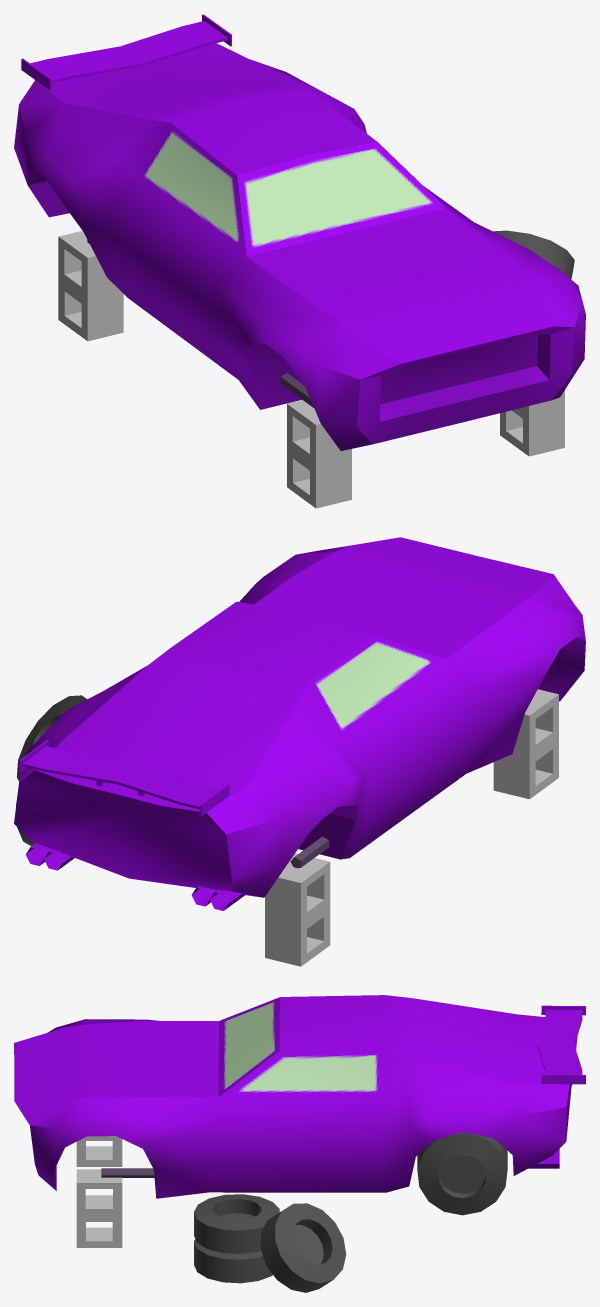
The model's file is env_carBlocks.fbx.
The picture shows the model from 3 angles, top to bottom: view 1: azimuth 30°, elevation 25°; view 2: azimuth 150°, elevation 25°; view 3: azimuth 270°, elevation 25°; orthographic projection. The views are drawn at different scales.
Visible parts, largest first — view 1: polySurface20; view 2: polySurface20; view 3: polySurface20.
Part boxes in pixels (x1,y1,x2,y2): polySurface20: [14, 14, 585, 508]; polySurface20: [14, 537, 585, 966]; polySurface20: [14, 995, 585, 1292].
Size of the model in its own units: 10.2 by 5.39 by 15.3.
